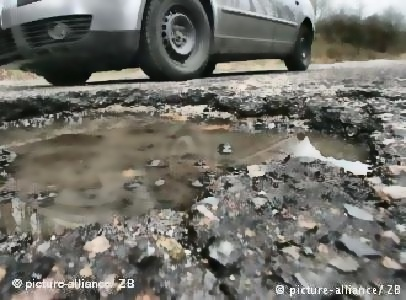pothole: (0, 83, 387, 255)
